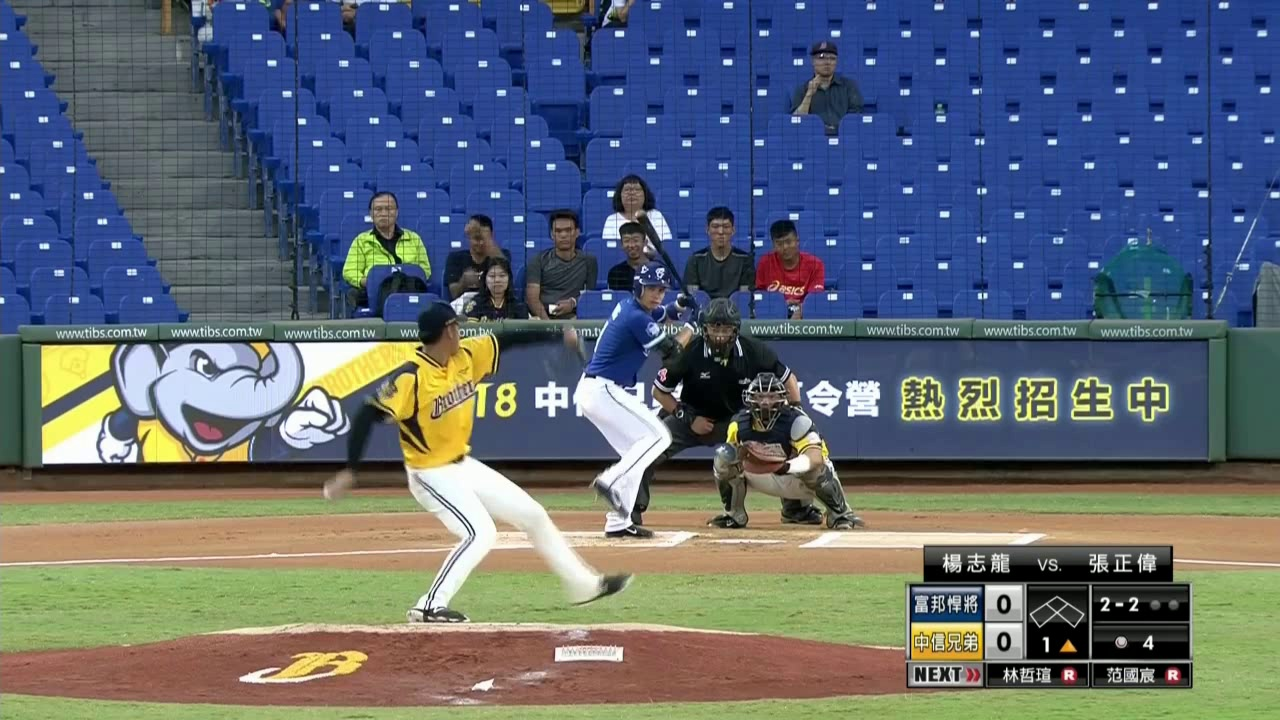ball: (321, 481, 341, 503)
base: (1028, 590, 1087, 630)
bat: (634, 208, 690, 298)
out: (1145, 597, 1181, 612)
score1: (986, 584, 1021, 621)
score2: (985, 623, 1023, 658)
session: (1038, 634, 1078, 654)
strikeball: (1095, 592, 1140, 615)
total: (1108, 627, 1161, 653)
